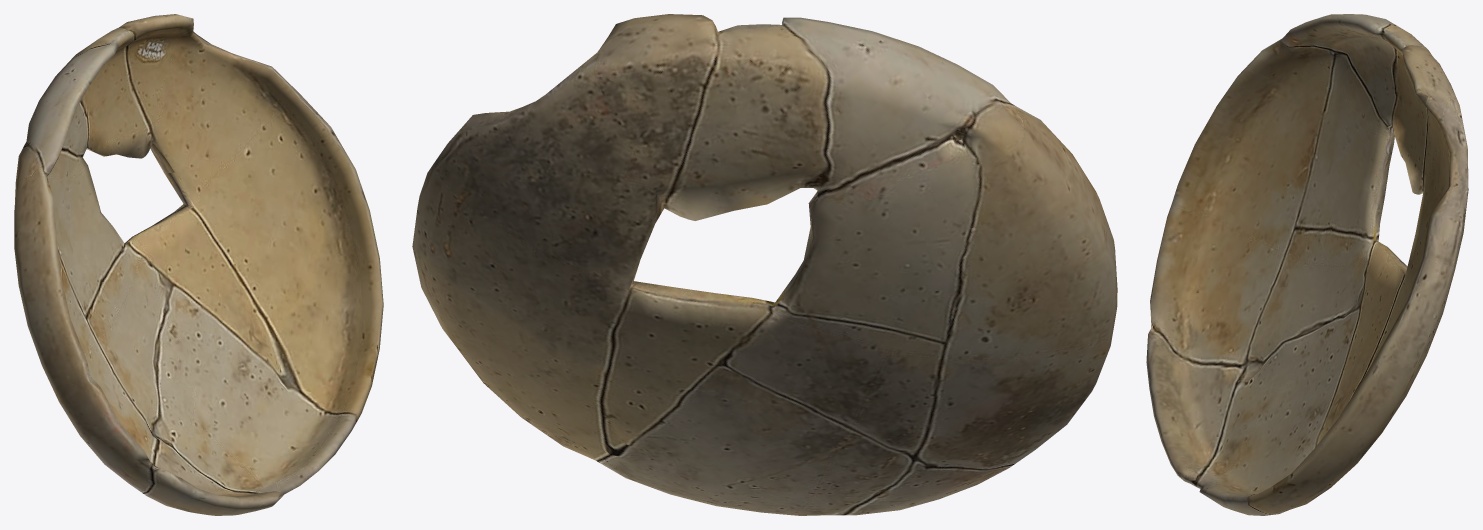
The model's file is antiquity9_91.fbx.
3 views of the same model, side by side, from view 1: azimuth 30°, elevation 25°; view 2: azimuth 150°, elevation 25°; view 3: azimuth 270°, elevation 25° (orthographic). The views are drawn at different scales.
Visible parts, largest first — view 1: 0519; view 2: 0519; view 3: 0519.
Boxes of the visible parts, x1,y1,x2,y2 form: 0519: (14, 14, 383, 515); 0519: (412, 14, 1117, 515); 0519: (1146, 14, 1468, 515).
Bounding box in the file's own units: 38.55 × 38.02 × 25.65.
Materials: 1 (1 with a texture image).
